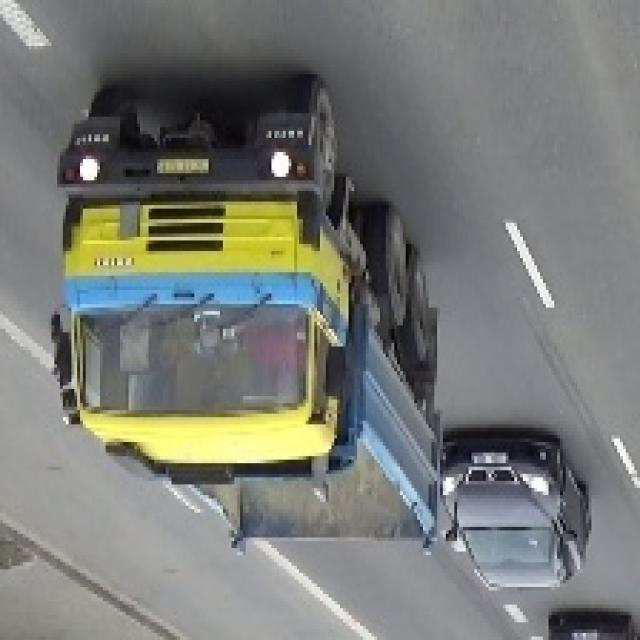truck: (51, 78, 446, 556)
